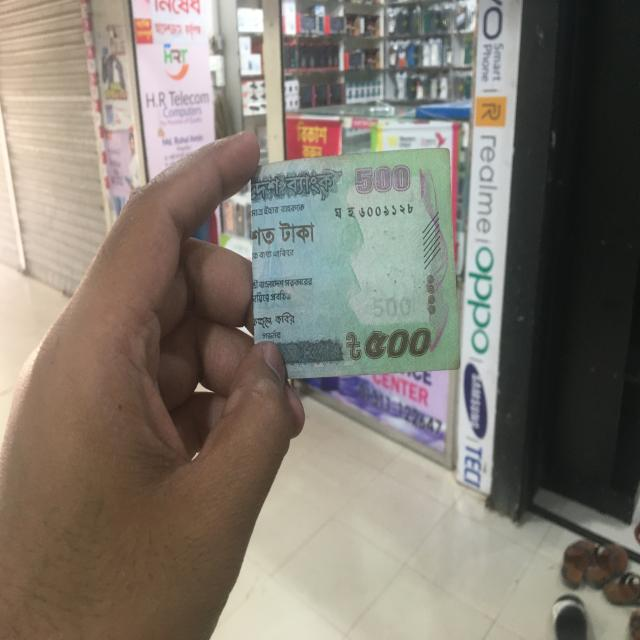Taka: (252, 158, 454, 363)
